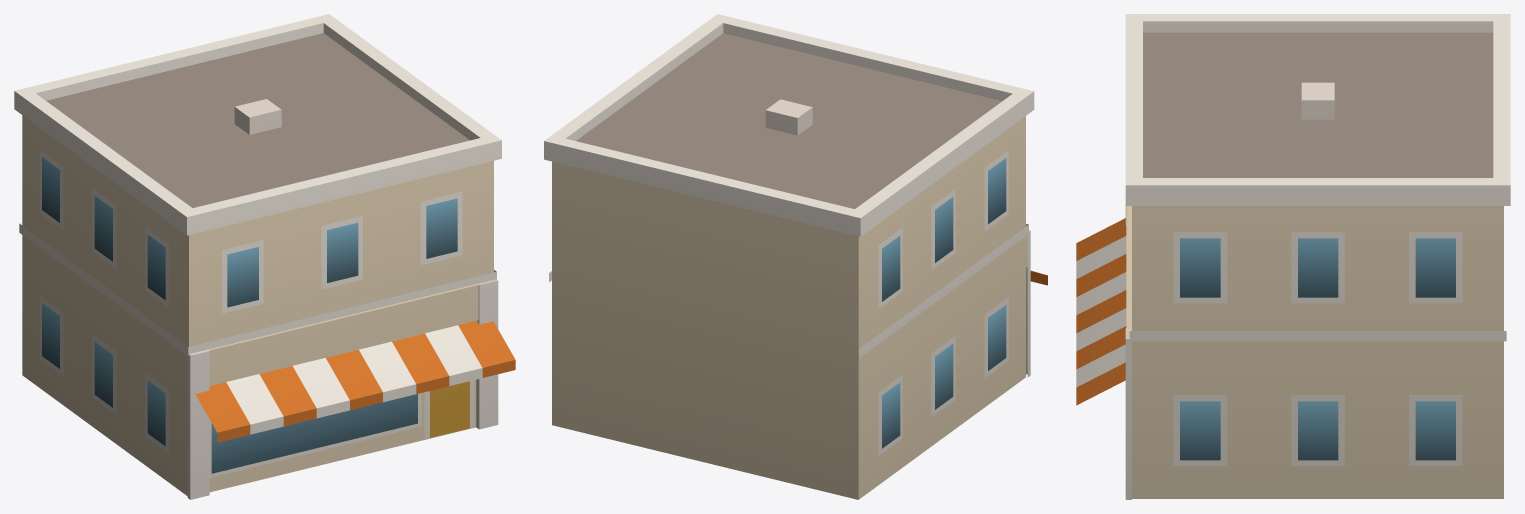
The model's file is vee_left3_far.glb.
3 views of the same model, side by side, from view 1: azimuth 30°, elevation 25°; view 2: azimuth 150°, elevation 25°; view 3: azimuth 270°, elevation 25° (orthographic). The views are drawn at different scales.
Visible parts, largest first — view 1: vee_left3_far; view 2: vee_left3_far; view 3: vee_left3_far.
Part boxes in pixels (x1=…): vee_left3_far: x1=14, y1=14, x2=515, y2=499; vee_left3_far: x1=544, y1=14, x2=1047, y2=499; vee_left3_far: x1=1076, y1=14, x2=1510, y2=499.
Bounding box in the file's own units: 9.82 × 8.67 × 10.51.
Materials: 1 (1 with a texture image).
